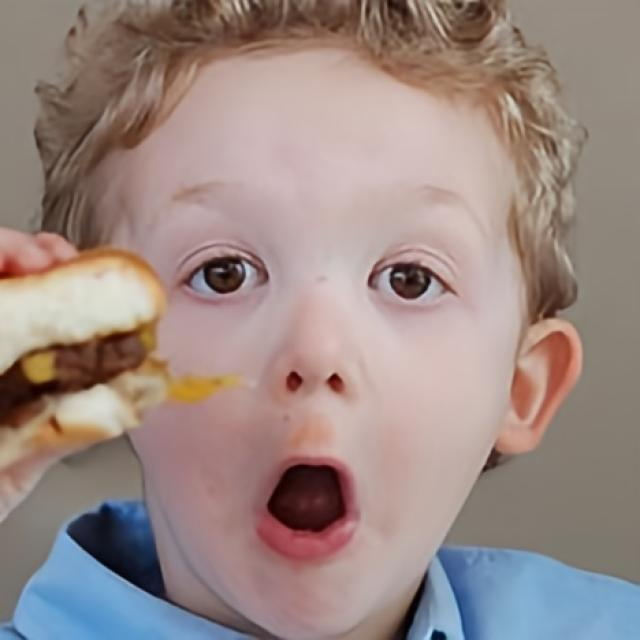surprise: (106, 44, 522, 632)
